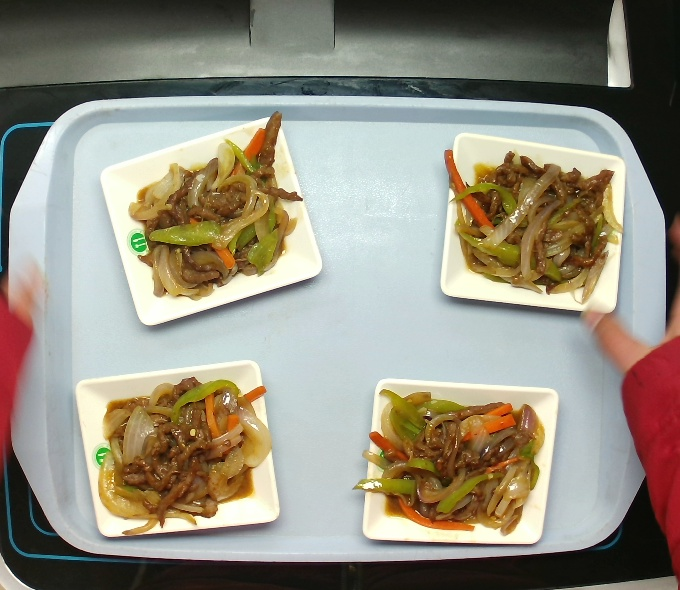wcq-NiuYangCongNiuLiu: (124, 103, 304, 309), (440, 141, 624, 297), (360, 384, 537, 533), (98, 370, 267, 526)
